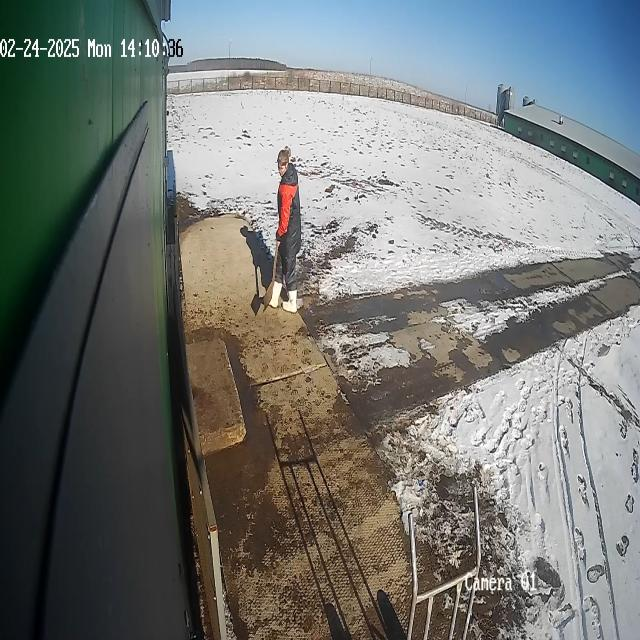Red uniform: (271, 145, 303, 315)
